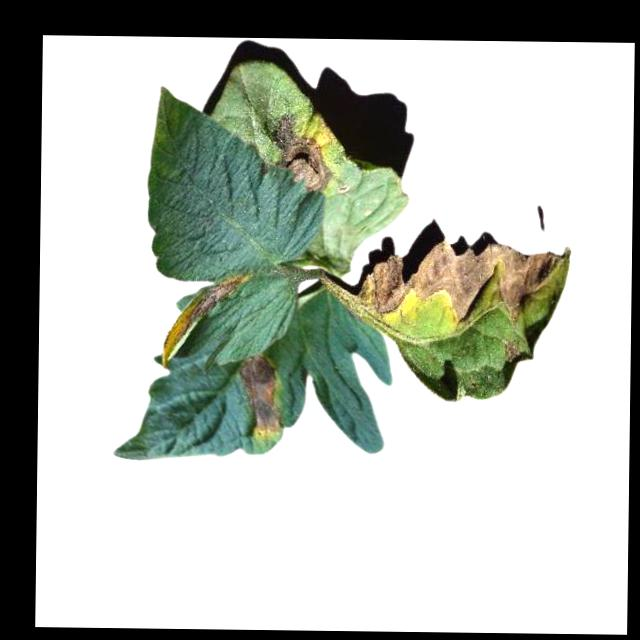Early_blight: (357, 240, 582, 325), (166, 278, 246, 360), (262, 113, 329, 194), (239, 356, 285, 438), (501, 340, 522, 363)
